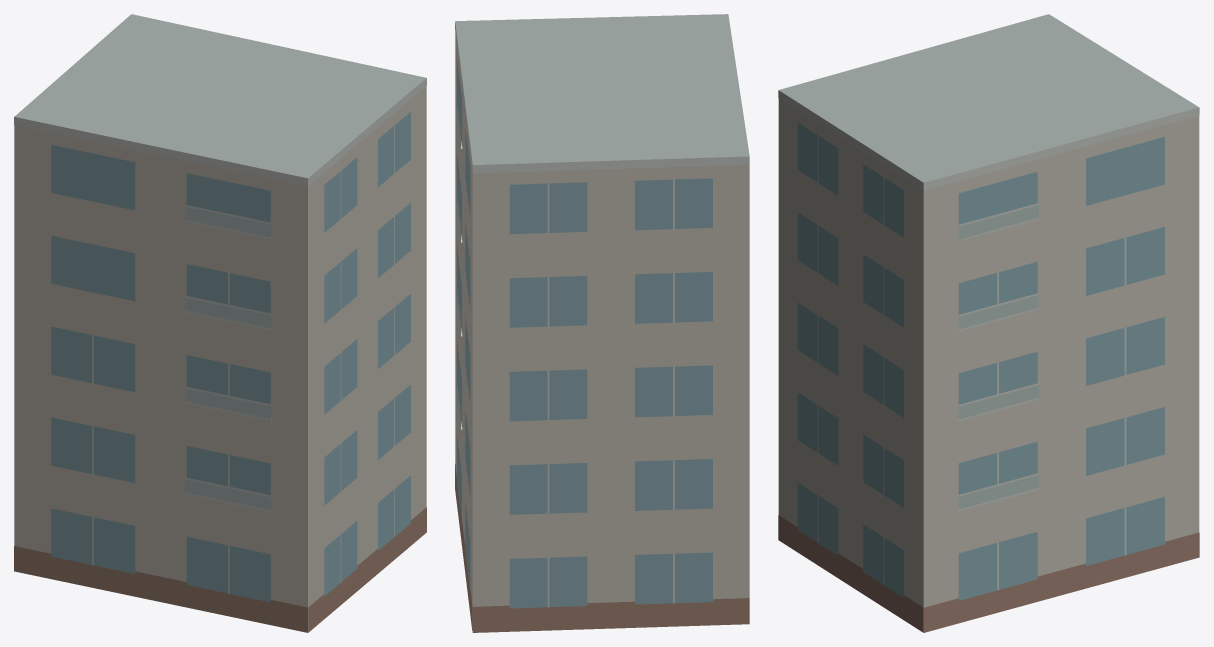
File: survey-upis-32881688.glb
The picture shows the model from 3 angles, left to right: view 1: azimuth 30°, elevation 25°; view 2: azimuth 150°, elevation 25°; view 3: azimuth 270°, elevation 25°; orthographic projection. The views are drawn at different scales.
Parts seen in each view (by area): view 1: survey-upis-32881688.tmp; view 2: survey-upis-32881688.tmp; view 3: survey-upis-32881688.tmp.
Boxes of the visible parts, left/top/right/bottom form: survey-upis-32881688.tmp: left=14, top=14, right=426, bottom=632; survey-upis-32881688.tmp: left=455, top=14, right=749, bottom=632; survey-upis-32881688.tmp: left=778, top=14, right=1199, bottom=632.
Size of the model in its own units: 11.11 by 13.8 by 11.71.
